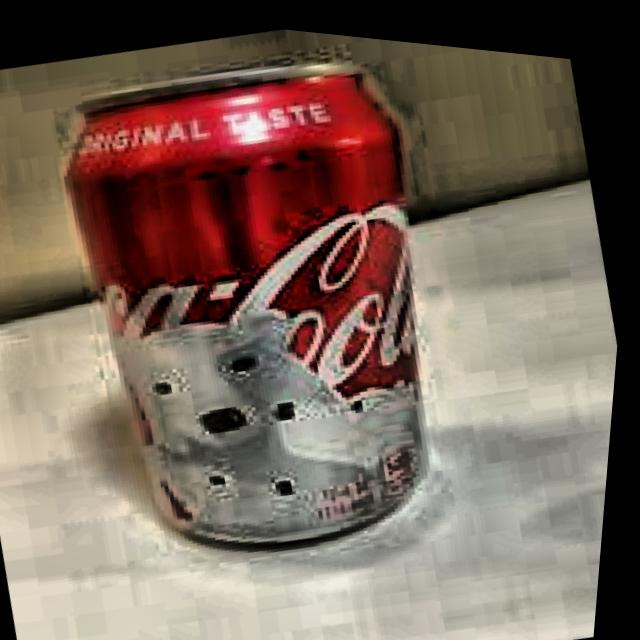Cans: (24, 10, 521, 602)
